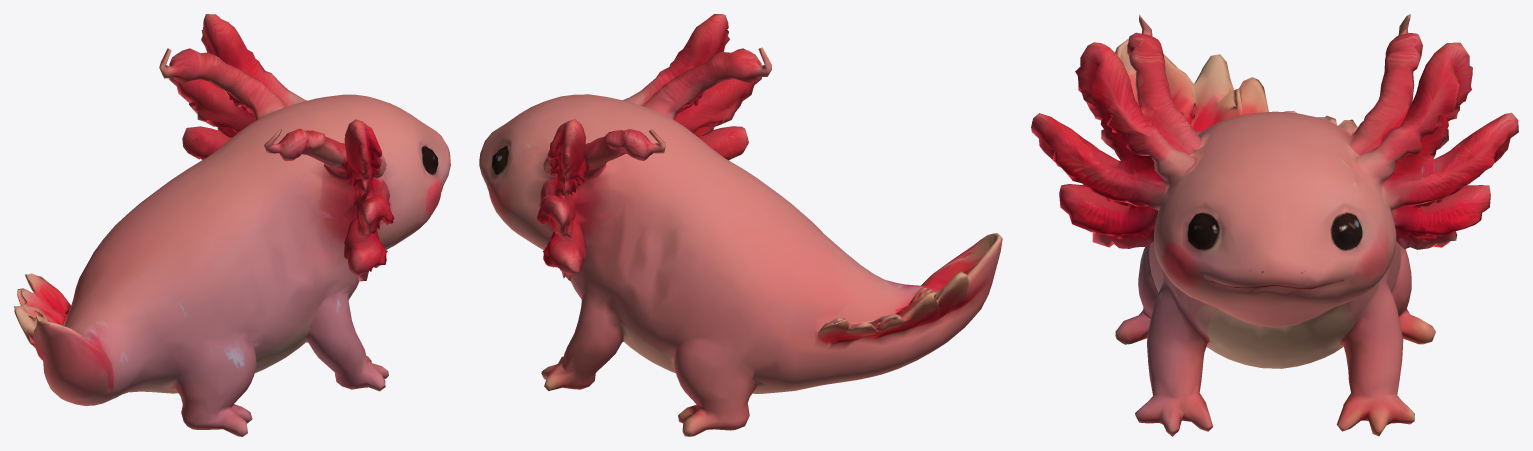
Rendered from axolotl.glb.
The picture shows the model from 3 angles, left to right: view 1: azimuth 30°, elevation 25°; view 2: azimuth 150°, elevation 25°; view 3: azimuth 270°, elevation 25°; orthographic projection. The views are drawn at different scales.
Visible parts, largest first — view 1: tripo_node_0572ce27-307c-4f40-84d5-75627153722a; view 2: tripo_node_0572ce27-307c-4f40-84d5-75627153722a; view 3: tripo_node_0572ce27-307c-4f40-84d5-75627153722a.
Part boxes in pixels (<box>): tripo_node_0572ce27-307c-4f40-84d5-75627153722a: <box>14,14,450,436</box>; tripo_node_0572ce27-307c-4f40-84d5-75627153722a: <box>479,14,1002,436</box>; tripo_node_0572ce27-307c-4f40-84d5-75627153722a: <box>1031,14,1518,436</box>.
Size of the model in its own units: 1 by 0.6235 by 0.7575.
Materials: 1 (1 with a texture image).
